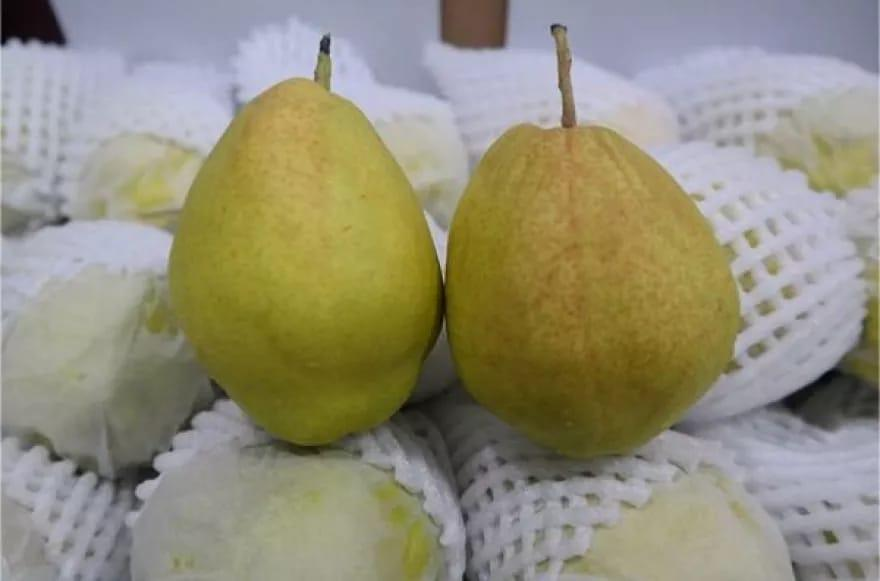Pear Overripe: (455, 68, 766, 423)
Pear Unripe: (129, 73, 441, 428)
